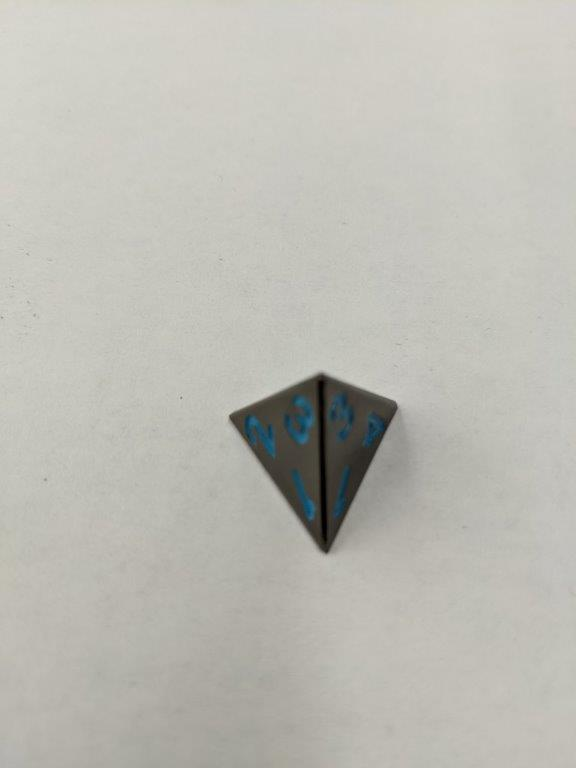d4-3: (227, 370, 399, 561)
